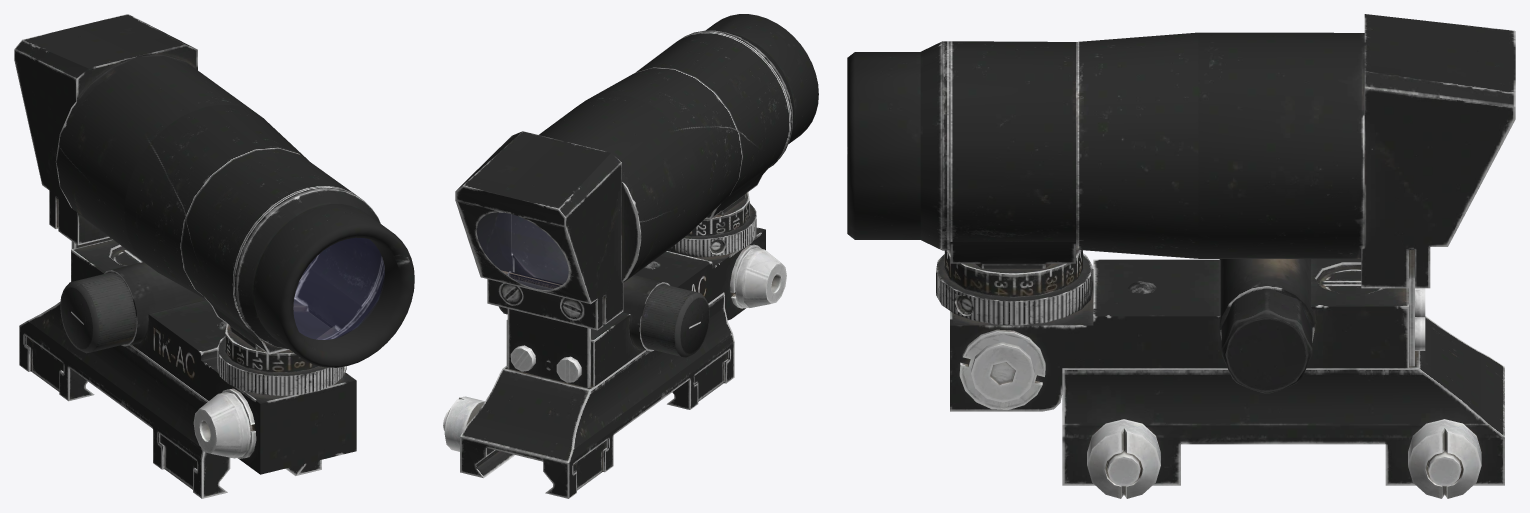
File: ACOG-RUSSIAN.glb
The picture shows the model from 3 angles, left to right: view 1: azimuth 30°, elevation 25°; view 2: azimuth 150°, elevation 25°; view 3: azimuth 270°, elevation 25°; orthographic projection. The views are drawn at different scales.
Parts seen in each view (by area): view 1: ACOG RUSSIAN; view 2: ACOG RUSSIAN; view 3: ACOG RUSSIAN.
Part boxes in pixels (box(x1,y1,x2,y2)): ACOG RUSSIAN: box(14, 14, 414, 498); ACOG RUSSIAN: box(443, 14, 818, 498); ACOG RUSSIAN: box(847, 14, 1515, 498).
Size of the model in its own units: 0.0505 by 0.0802 by 0.1192.
3 materials, 2 textured.
